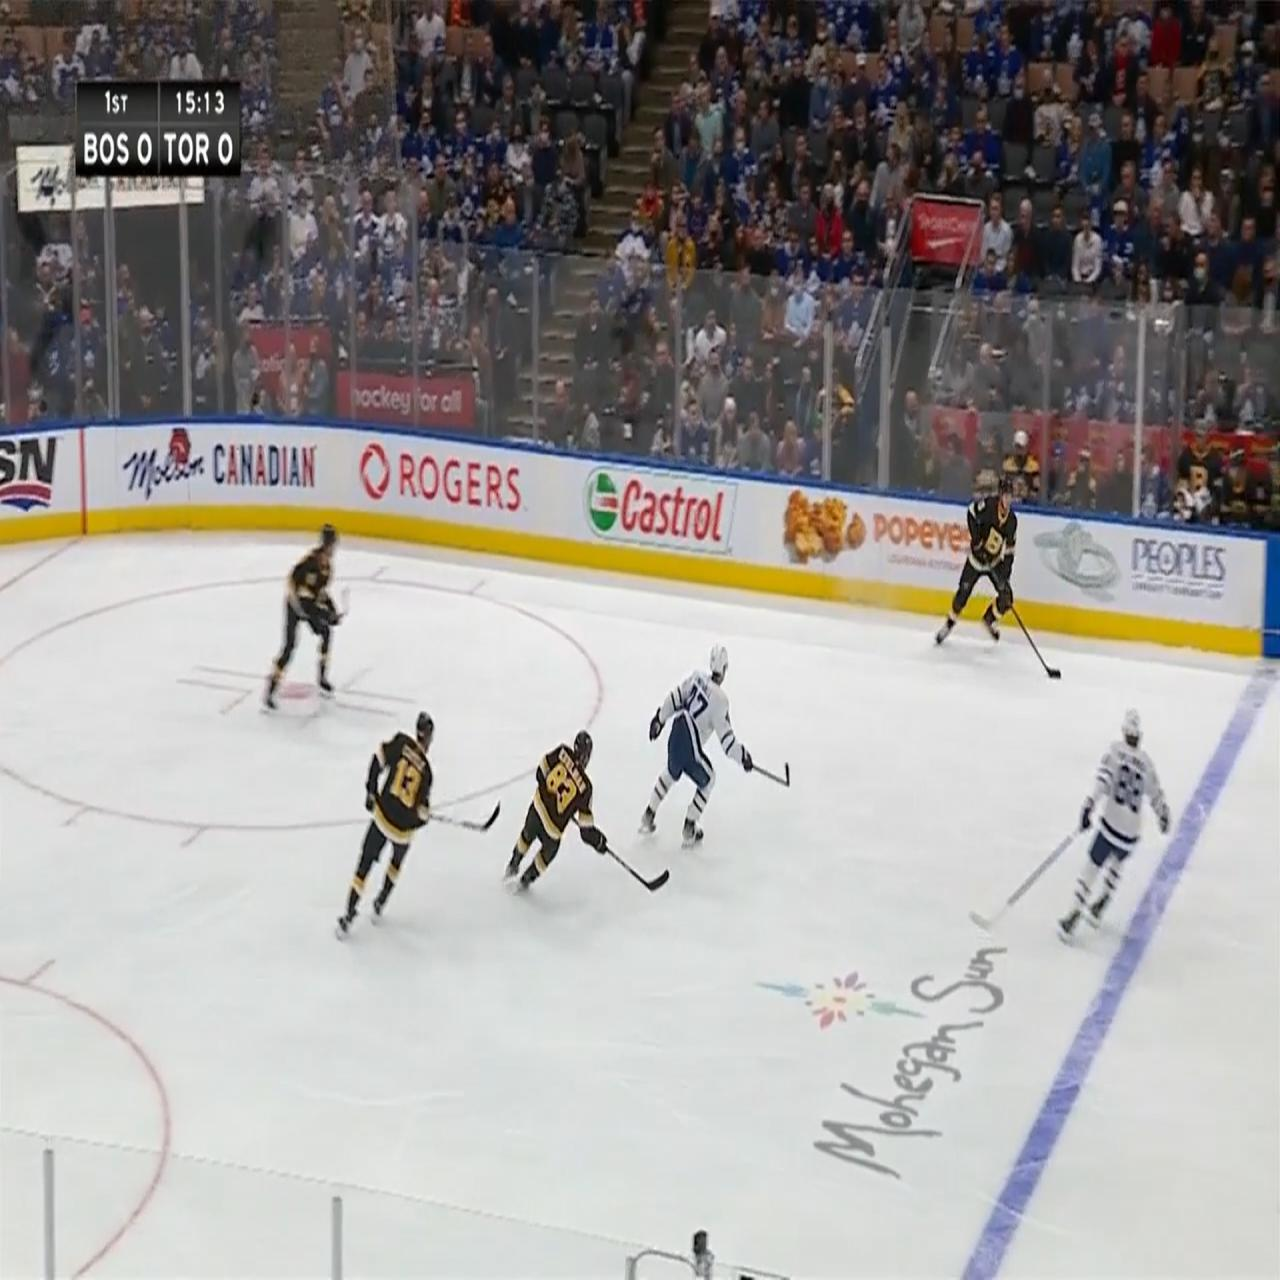Ad: (748, 914, 1022, 1198), (1030, 517, 1234, 641), (116, 418, 327, 536), (778, 483, 967, 605), (577, 457, 741, 586), (361, 424, 526, 540), (0, 430, 68, 539)
